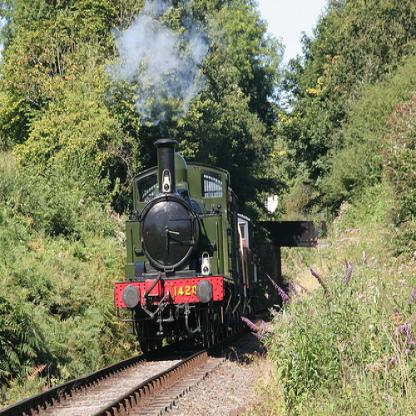train: (112, 135, 262, 352)
